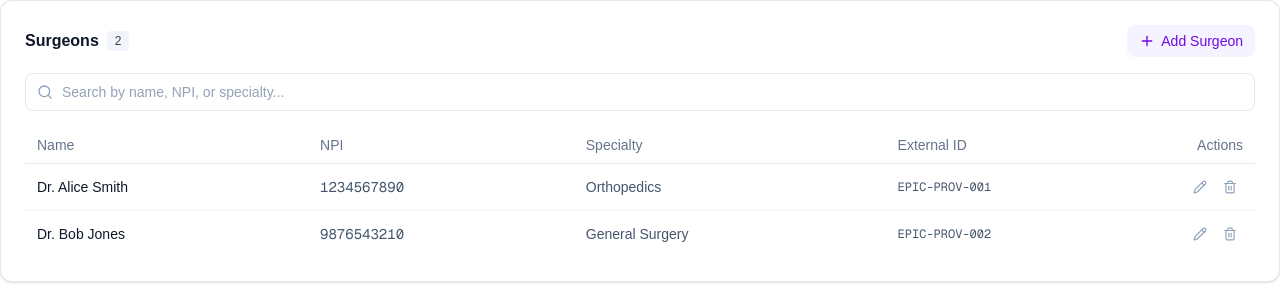
Test: SurgeonPool - Unit Tests › filters surgeons by NPI
The image size is (1280, 300).
Expected: the text "Dr. Alice Smith" is shown, x1=25 y1=164 x2=308 y2=210
Type "1234567890" into the field with placeholder "Search by name, NPI, or specialty..." at [640, 92], box x1=25 y1=73 x2=1255 y2=111
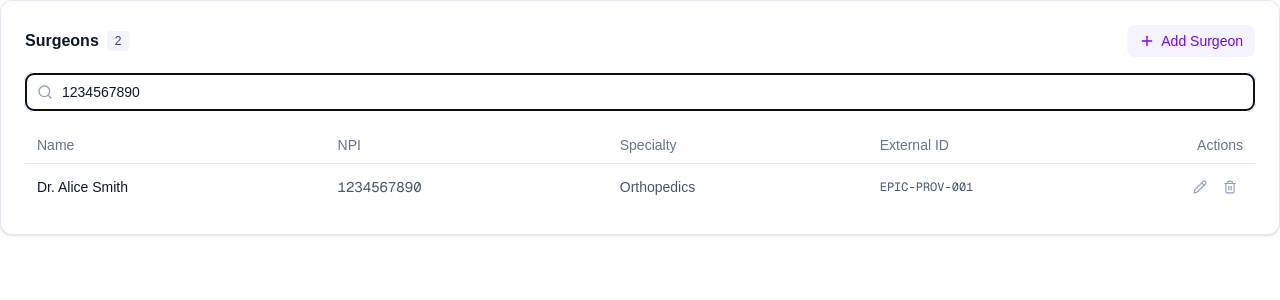
Expected: the text "Dr. Alice Smith" is shown, x1=25 y1=164 x2=326 y2=210
Expected: the text "Dr. Bob Jones" is gone
